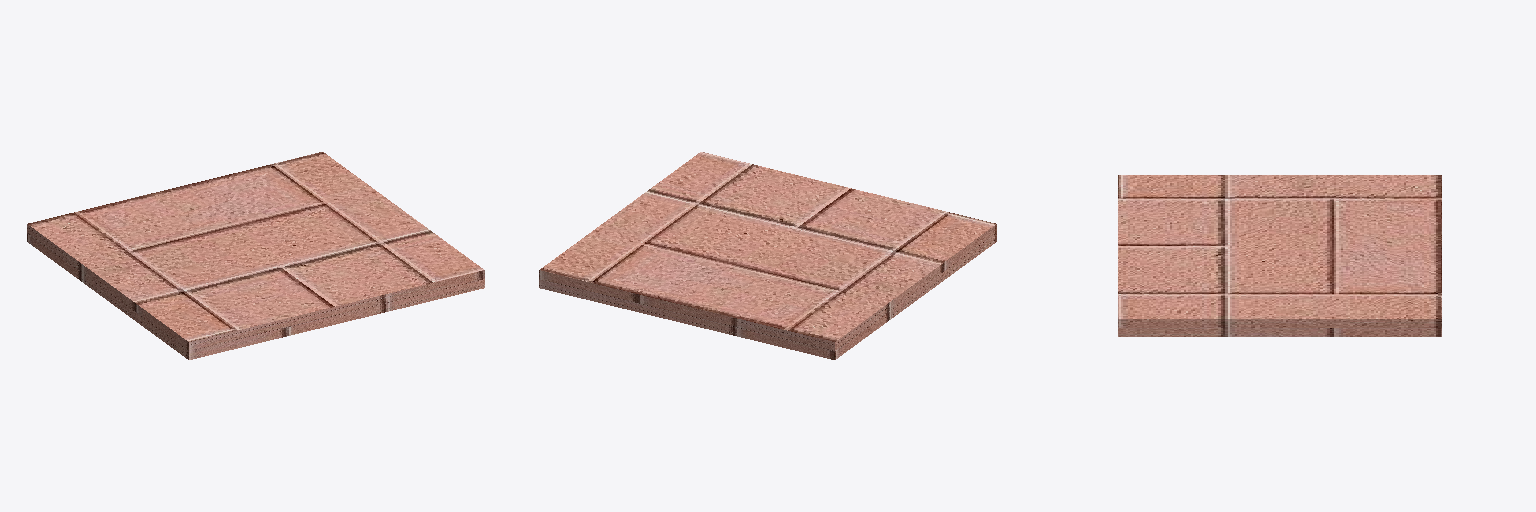
3 views of the same model, side by side, from view 1: azimuth 30°, elevation 25°; view 2: azimuth 150°, elevation 25°; view 3: azimuth 270°, elevation 25° (orthographic).
Parts seen in each view (by area): view 1: Cube; view 2: Cube; view 3: Cube.
Boxes of the visible parts, box(x1,y1,x2,y2) form: Cube: box(27, 152, 484, 359); Cube: box(539, 152, 996, 359); Cube: box(1118, 175, 1441, 336).
Size of the model in its own units: 6.26 by 0.3648 by 5.93.
Materials: 1 (1 with a texture image).